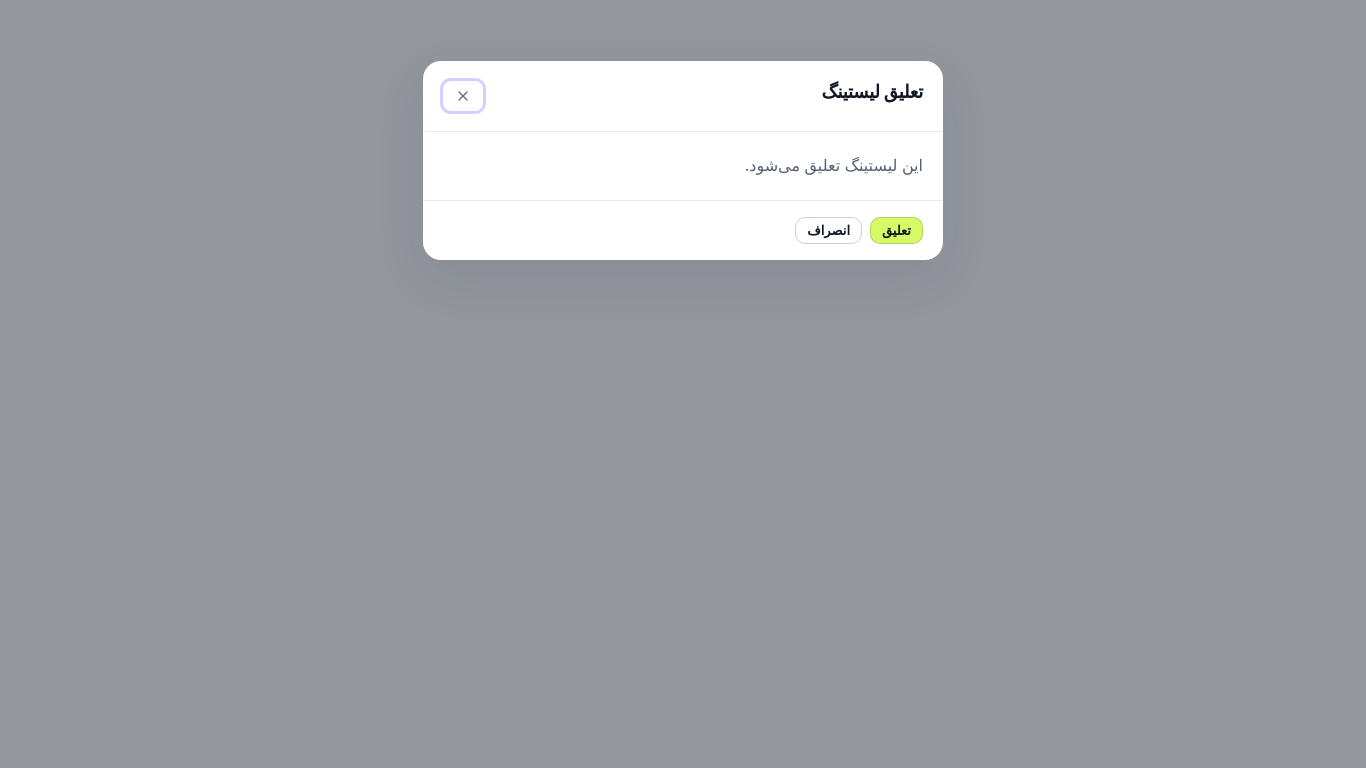
Test: ConfirmDialog › shows a pending (aria-busy) state and blocks double-confirm
The image size is (1366, 768).
Later steps or results of the test are not shown.
Click the button "تعلیق": (896, 230) x1=870 y1=217 x2=923 y2=244
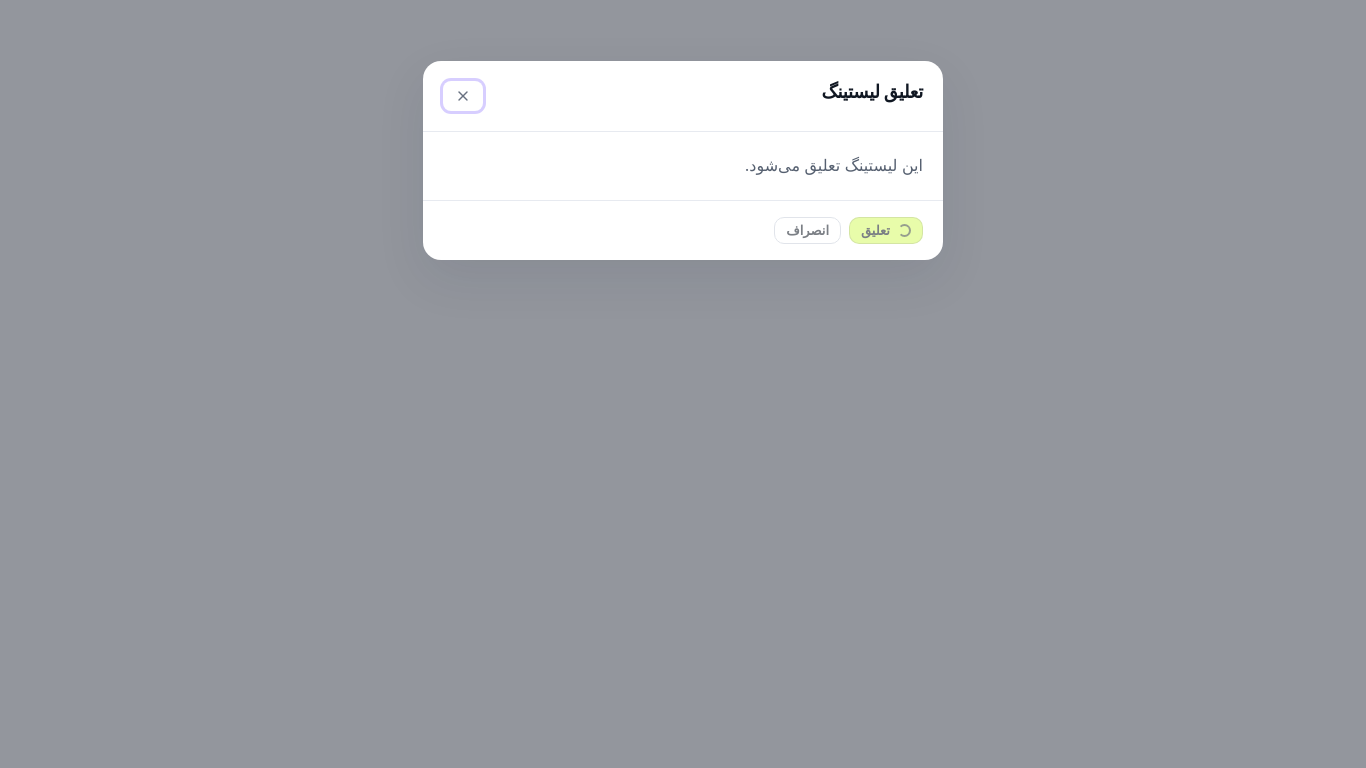
Click the button "تعلیق": (886, 230) x1=849 y1=217 x2=923 y2=244
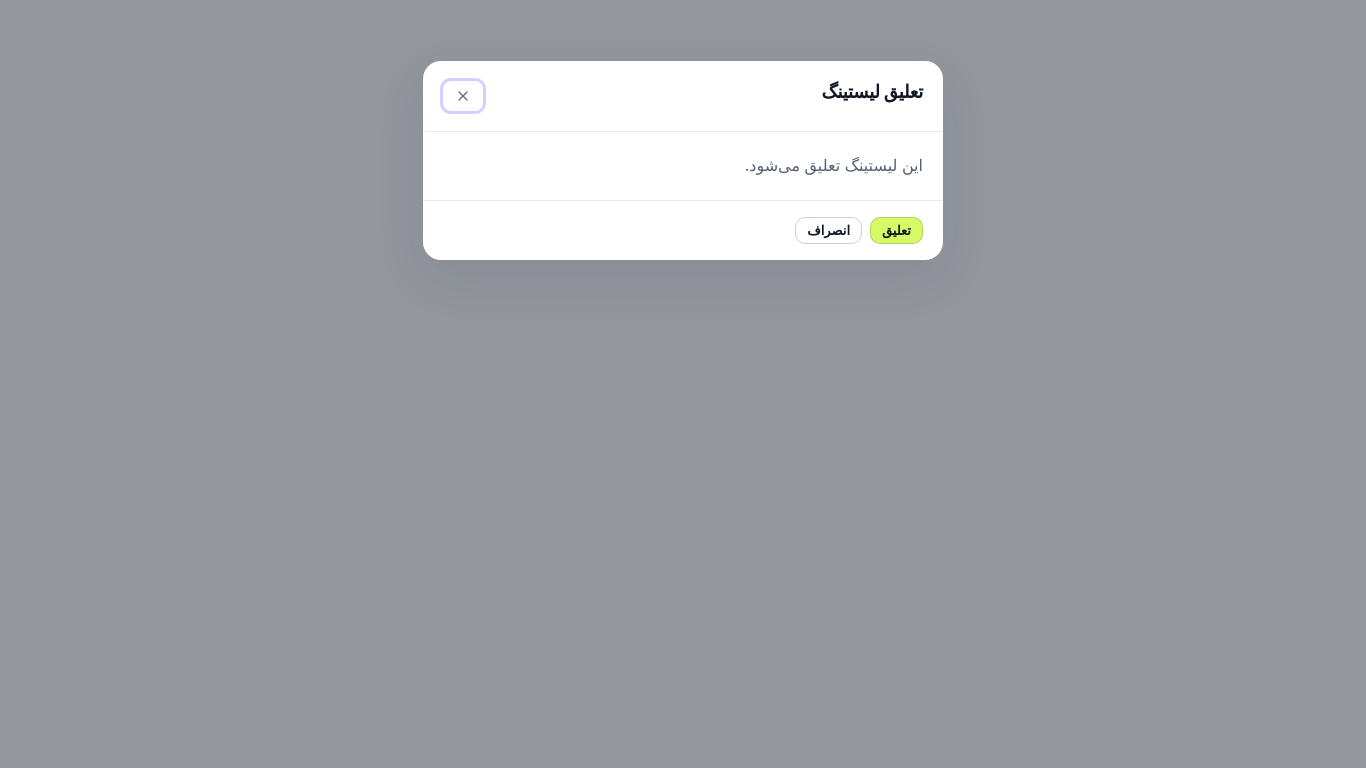
Now the button "تعلیق" does not have attribute aria-busy="true", box x1=870 y1=217 x2=923 y2=244
